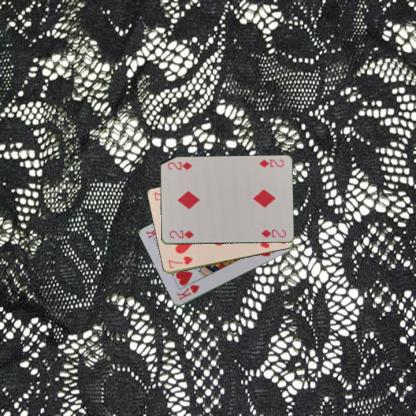2d: (166, 228, 195, 240), (256, 157, 285, 169)
7h: (165, 254, 194, 270)
Kh: (174, 282, 200, 302)
